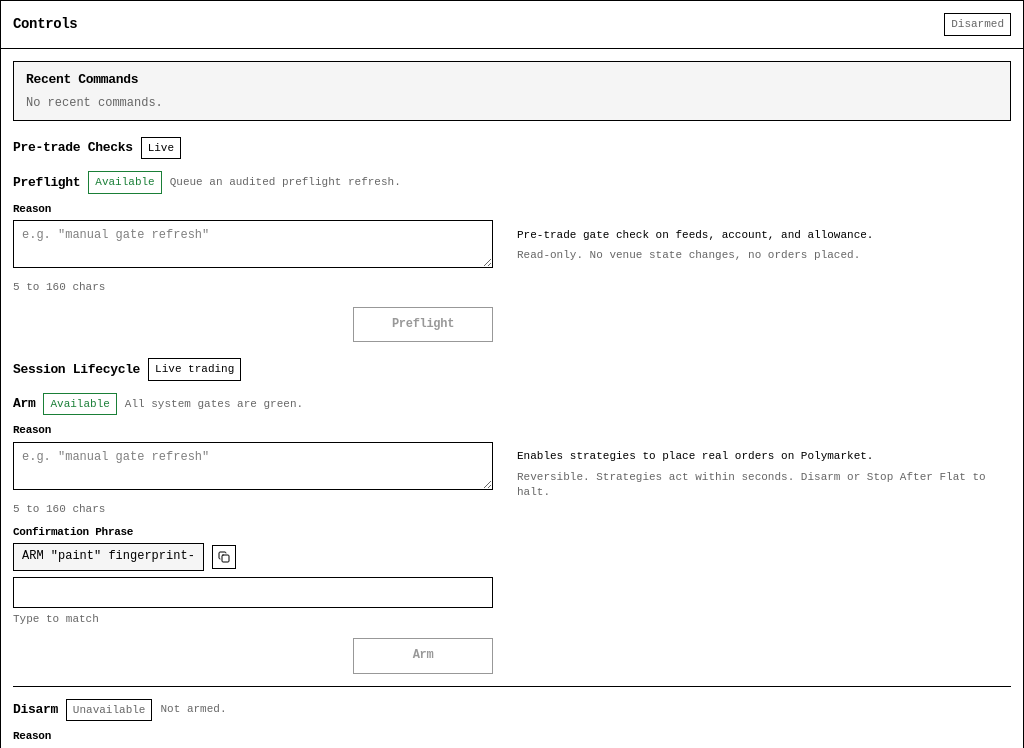
it: queues an audited preflight command from live trading controls
The image size is (1024, 748).
Type "manual gate refresh" into the text box labelled "Reason" below "Queue an audited preflight refresh." at (253,244), box [13,220,493,268]
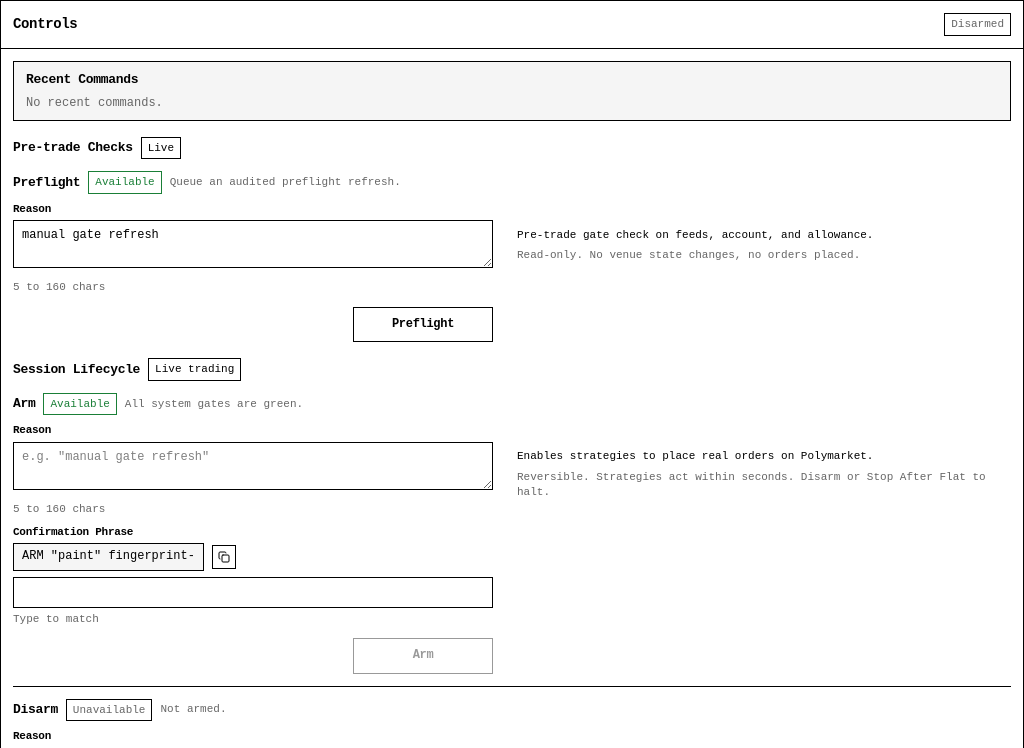
Click the button "Preflight" at (423,325), box [353,307,493,342]
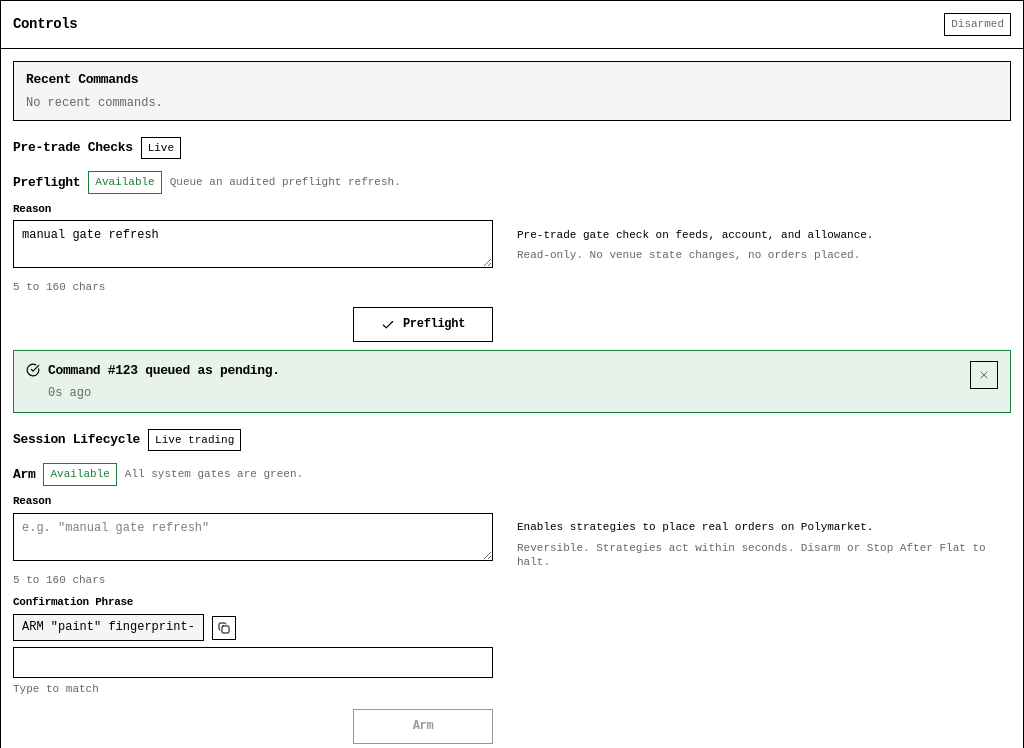
Expected: the text "Command #123 queued as pending." is shown, [48,363,280,378]
